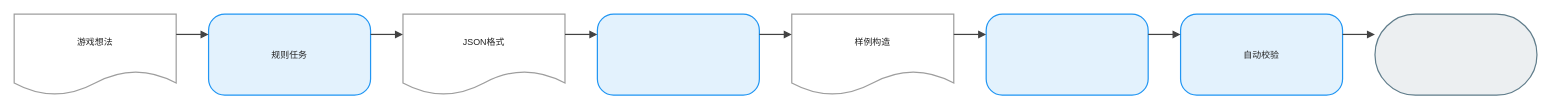
The diagram is 1552 pixels wide and 110 high, and some of its shapes have lost their labels. The box of each missing label's shape, as (x1, y1, x2, y2) in pixels:
AP准确率: (1374, 13, 1537, 95)
L0-L3: (596, 13, 760, 95)
英文翻译: (985, 13, 1148, 95)
